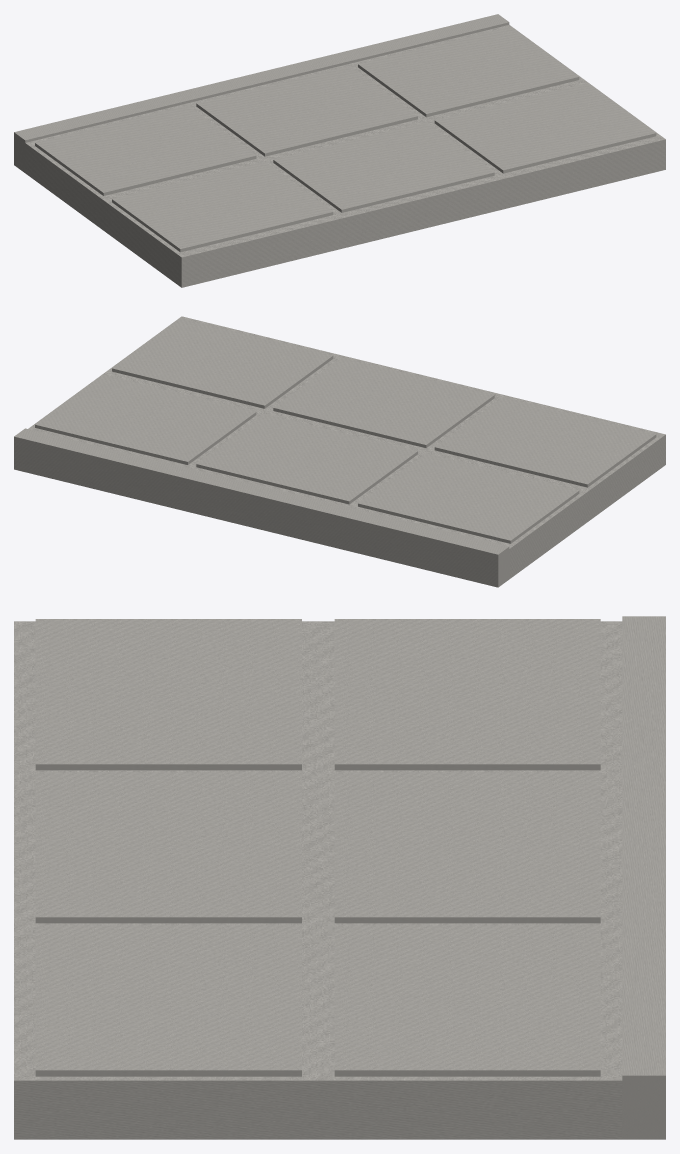
Rendered from pavement-module.glb.
3 renders of one model, top to bottom at view 1: azimuth 30°, elevation 25°; view 2: azimuth 150°, elevation 25°; view 3: azimuth 270°, elevation 25°, orthographic. The views are drawn at different scales.
Visible parts, largest first — view 1: pavement-module-stone; view 2: pavement-module-stone; view 3: pavement-module-stone.
Boxes of the visible parts, left/top/right/bottom form: pavement-module-stone: left=14, top=14, right=665, bottom=287; pavement-module-stone: left=14, top=316, right=665, bottom=587; pavement-module-stone: left=14, top=616, right=665, bottom=1139.
Bounding box in the file's own units: 4 × 0.2651 × 2.4.
1 material, 1 textured.
